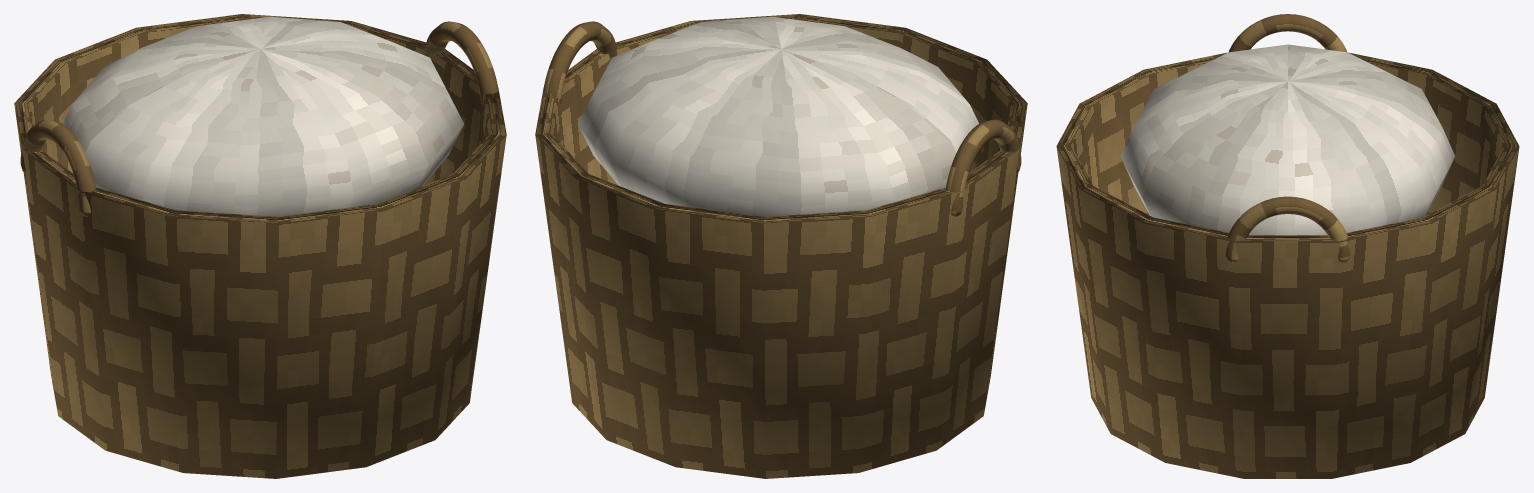
File: laundryBasket.glb
The picture shows the model from 3 angles, left to right: view 1: azimuth 30°, elevation 25°; view 2: azimuth 150°, elevation 25°; view 3: azimuth 270°, elevation 25°; orthographic projection. The views are drawn at different scales.
Visible parts, largest first — view 1: laundryBasket; view 2: laundryBasket; view 3: laundryBasket.
Part boxes in pixels (x1,y1,x2,y2): laundryBasket: (14,14,506,478); laundryBasket: (535,14,1027,478); laundryBasket: (1056,14,1519,478).
Size of the model in its own units: 0.5851 by 0.4528 by 0.6002.
2 materials, 2 textured.
